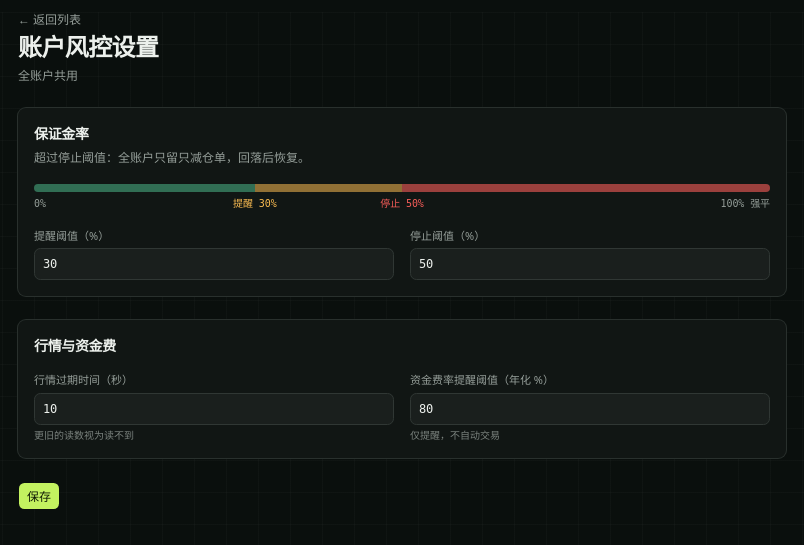
it: 账户风控设置 › 不是数字的阈值不交给服务端
Clear the field showing "30": (214,264) [34,248,394,280]
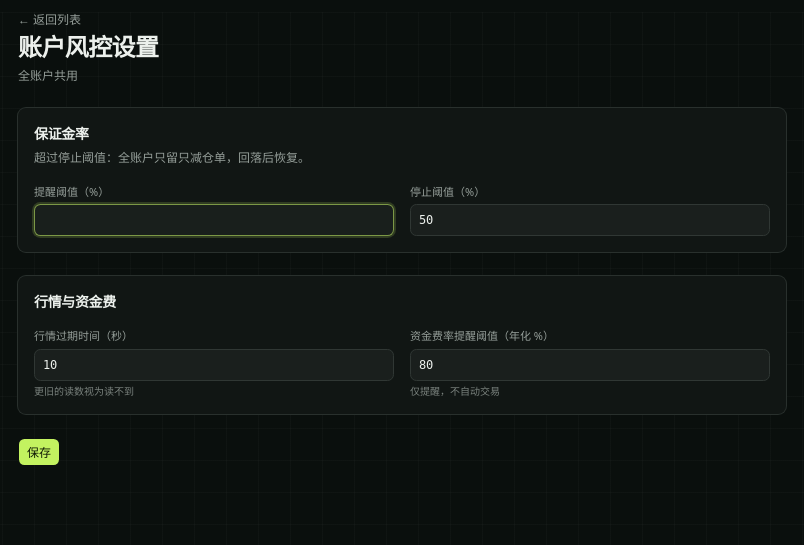
In the field showing "30": (214,220) [34,204,394,236], type "三十"
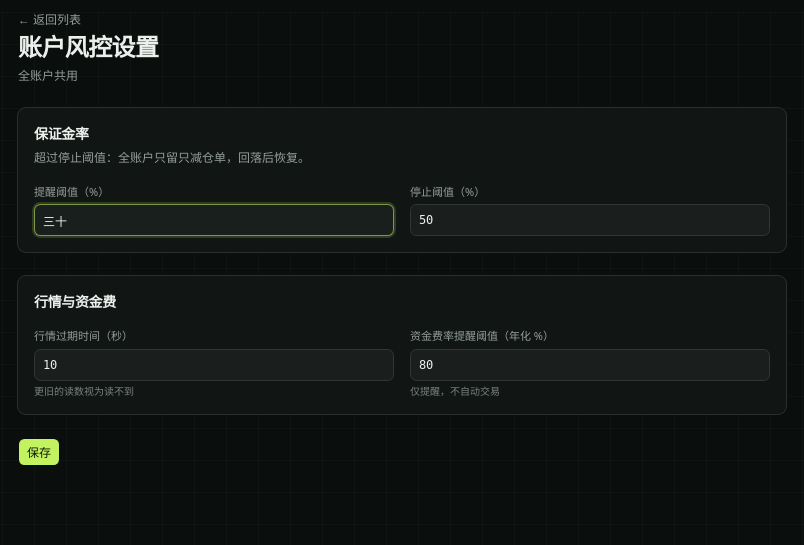
Click the button "保存": (39,452) [18,438,60,466]
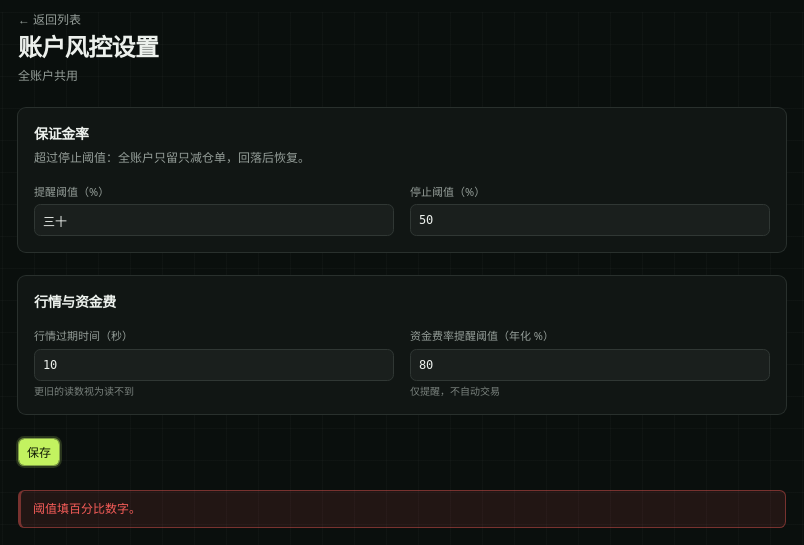
expect the text "阈值填百分比数字。" is shown: met, box [33,500,141,517]
